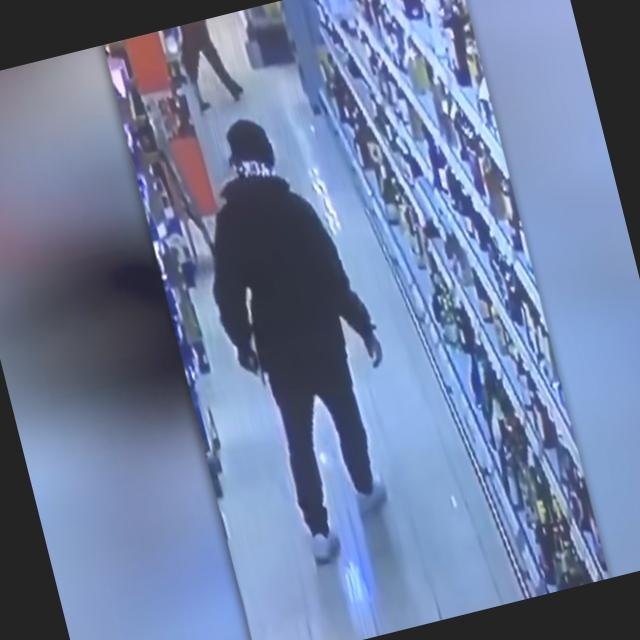person: (172, 97, 429, 574), (278, 0, 343, 117), (172, 13, 246, 112)
